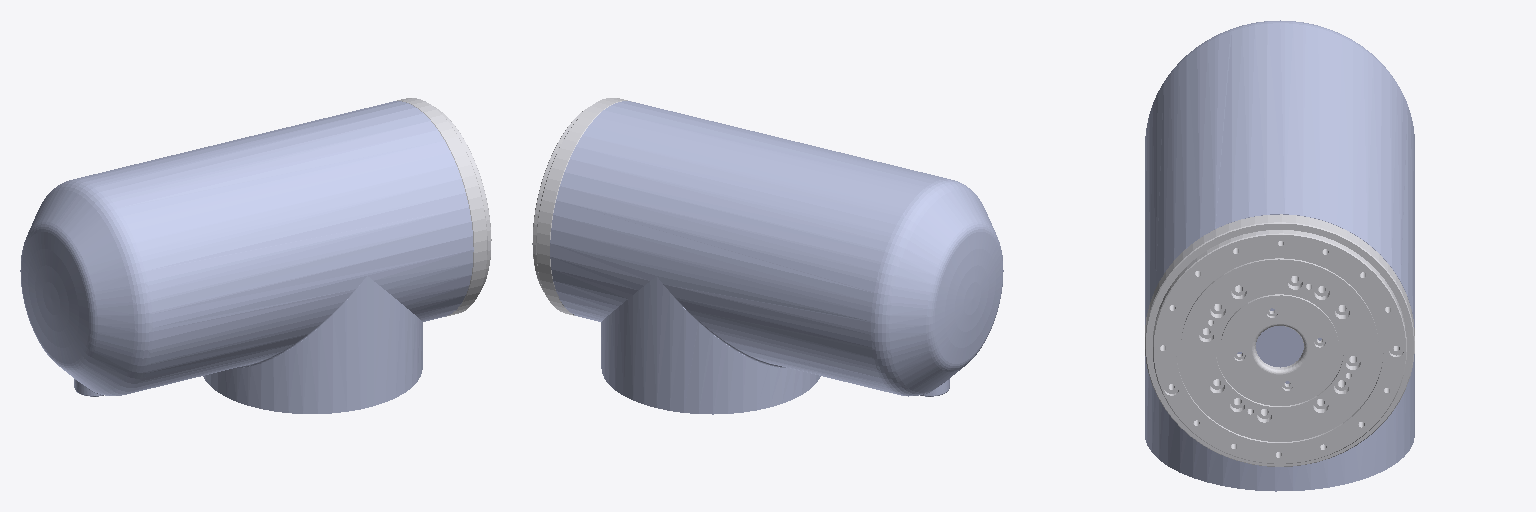
The robot description file, URDF, robot "awjoint2580":
<?xml version="1.0" encoding="utf-8"?>
<!-- This URDF was automatically created by SolidWorks to URDF Exporter! Originally created by [author] ([email redacted]) 
     Commit Version: 1.5.1-0-g916b5db  Build Version: 1.5.7152.31018
     For more information, please see http://wiki.ros.org/sw_urdf_exporter -->
<robot
  name="awjoint2580">
  <link
    name="rifJ25">
    <inertial>
      <origin
        xyz="0 0 -0.086"
        rpy="0 0 0" />
      <mass
        value="8" />
      <inertia
        ixx="0.033132"
        ixy="4.051E-05"
        ixz="5.876E-05"
        iyy="0.019469"
        iyz="-0.00035797"
        izz="0.031908" />
    </inertial>
    <visual>
      <origin
        xyz="0 0 0"
        rpy="3.14 0 0" />
      <geometry>
        <mesh
          filename="package://awjoint2580/meshes/rifJ25.STL" />
      </geometry>
      <material
        name="">
        <color
          rgba="0.79216 0.81961 0.93333 1" />
      </material>
    </visual>
    <collision>
      <origin
        xyz="0 0 0"
        rpy="3.14 0 0" />
      <geometry>
        <mesh
          filename="package://awjoint2580/meshes/rifJ25.STL" />
      </geometry>
    </collision>
  </link>
  <link
    name="J25">
    <inertial>
      <origin
        xyz="0 0 -0.0084"
        rpy="0 0 0" />
      <mass
        value="0.51" />
      <inertia
        ixx="0.00070332"
        ixy="0"
        ixz="0"
        iyy="0.00074116"
        iyz="0"
        izz="0.00136991" />
    </inertial>
    <visual>
      <origin
        xyz="0 0 0"
        rpy="0 0 0" />
      <geometry>
        <mesh
          filename="package://awjoint2580/meshes/J25.STL" />
      </geometry>
      <material
        name="">
        <color
          rgba="0.8902 0.8902 0.91373 1" />
      </material>
    </visual>
    <collision>
      <origin
        xyz="0 0 0"
        rpy="0 0 0" />
      <geometry>
        <mesh
          filename="package://awjoint2580/meshes/J25.STL" />
      </geometry>
    </collision>
  </link>
  <joint
    name="J25"
    type="revolute">
    <origin
      xyz="0.0925 0 +0.0875"
      rpy="0 1.5708 0" />
    <parent
      link="rifJ25" />
    <child
      link="J25" />
    <axis
      xyz="0 0 -1" />
    <limit
      lower="-3.14"
      upper="3.14"
      effort="150"
      velocity="2.71" />
    <dynamics
      damping="1"
      friction="0.1" />
  </joint>
</robot>

--- What the picture shows (computed from the rendered views, not written in the file) ---
The picture shows the robot from 3 angles, left to right: view 1: azimuth 30°, elevation 25°; view 2: azimuth 150°, elevation 25°; view 3: azimuth 270°, elevation 25°; orthographic projection.
Model awjoint2580 with 2 links and 1 joints (1 revolute), rooted at rifJ25, posed all joints at 0.
Visible links, largest first — view 1: rifJ25, J25; view 2: rifJ25, J25; view 3: rifJ25, J25.
Boxes of the visible links, x1,y1,x2,y2 form: rifJ25: (20, 101, 473, 413); J25: (397, 98, 491, 316); rifJ25: (550, 101, 1003, 414); J25: (532, 98, 631, 315); rifJ25: (1145, 20, 1414, 491); J25: (1145, 214, 1414, 466).
Size in the robot's own frame: 0.2812 by 0.1391 by 0.1611 metres.
2 mesh visuals loaded from 2 distinct referenced files (2 binary STL).
